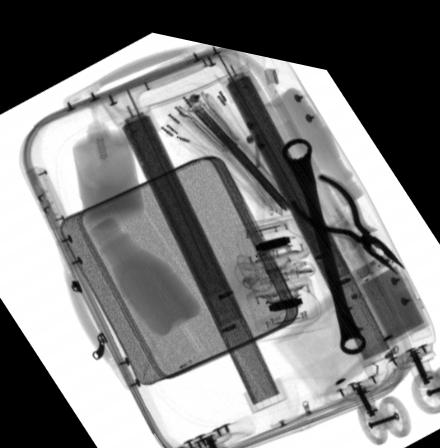Pliers: (288, 160, 404, 257)
Powerbank: (349, 232, 428, 330)
Wrench: (278, 124, 369, 339)
